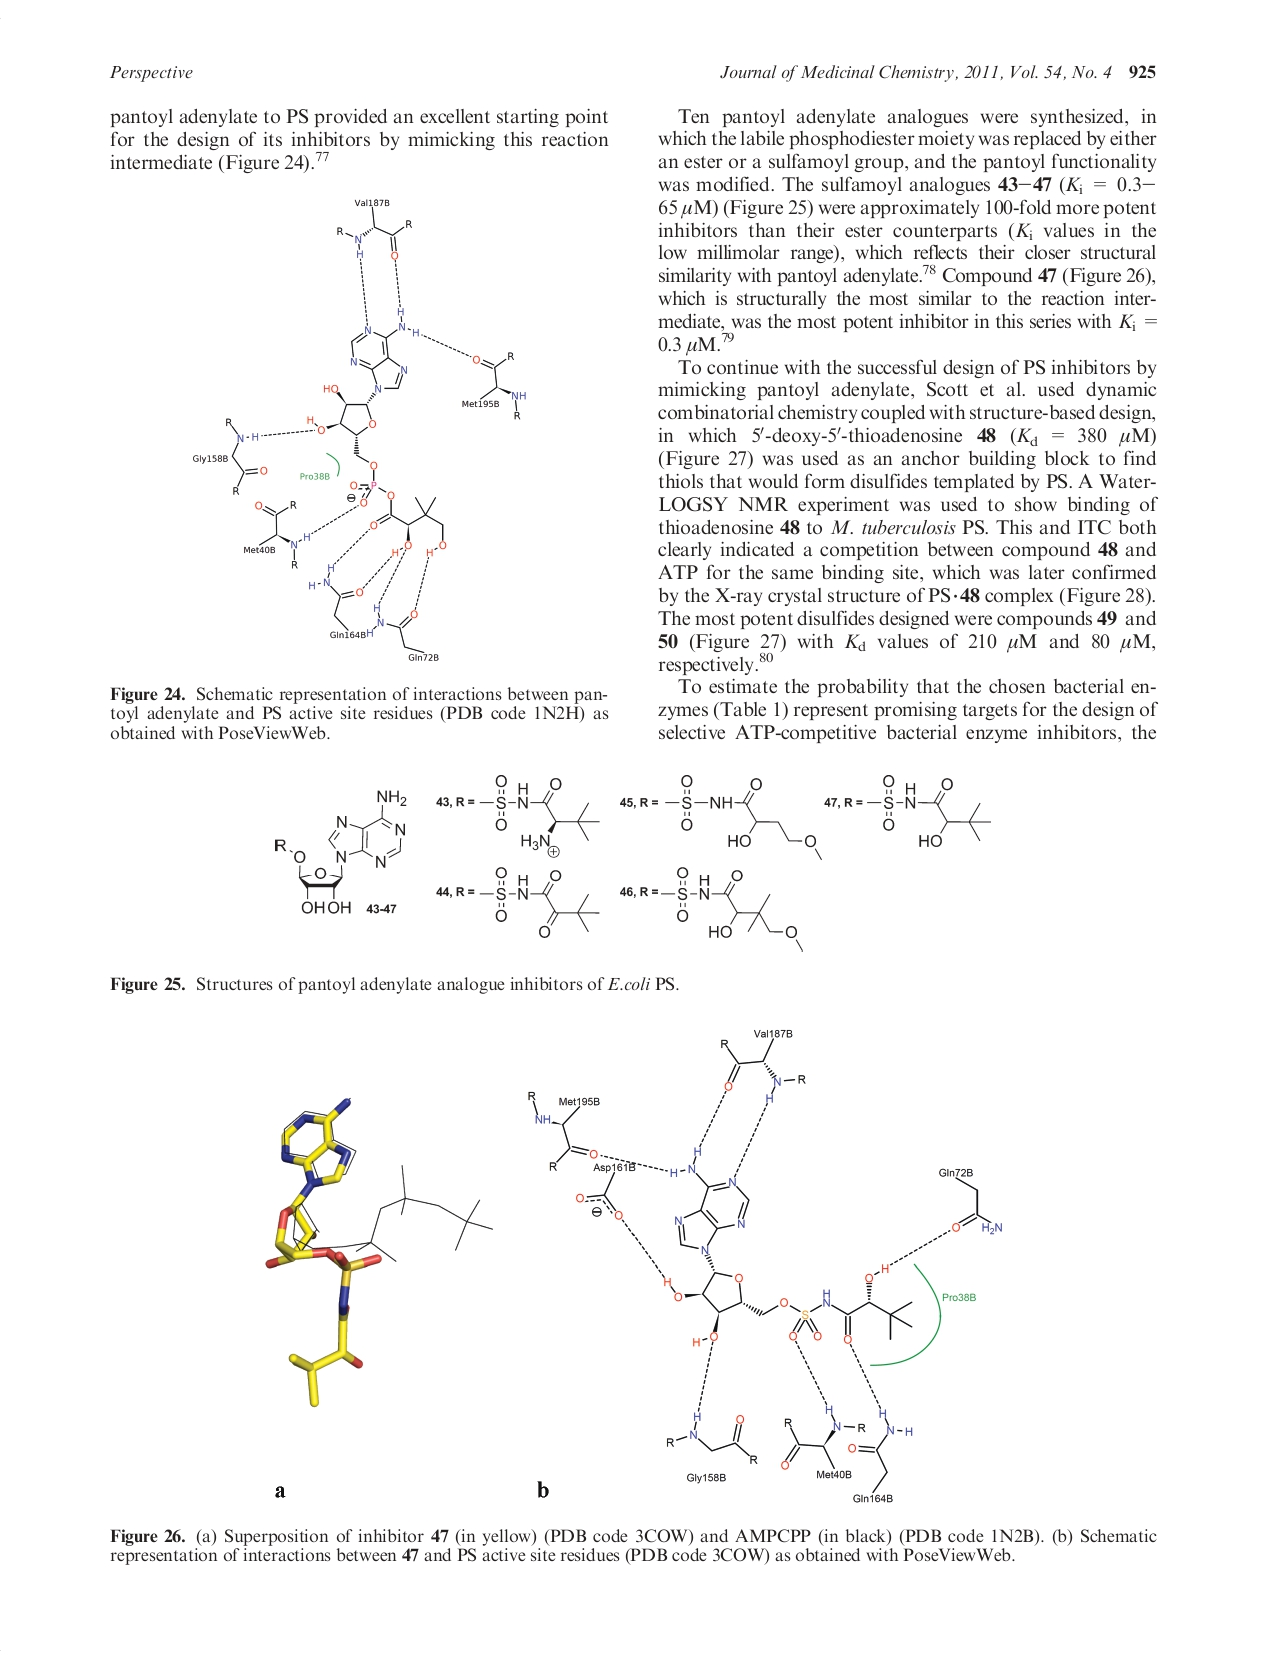exist_molecular: (661, 1144, 920, 1347), (305, 305, 451, 559), (271, 787, 410, 916), (661, 770, 823, 863), (660, 864, 809, 954), (477, 771, 602, 859), (864, 771, 992, 852), (477, 864, 602, 944), (715, 1020, 809, 1106), (781, 1400, 864, 1483), (190, 414, 271, 496), (848, 1404, 914, 1504), (525, 1091, 600, 1173), (332, 190, 414, 265), (664, 1408, 761, 1470), (459, 346, 531, 423), (935, 1160, 1005, 1237), (241, 497, 313, 569), (306, 557, 368, 640), (364, 601, 442, 662), (573, 1160, 637, 1220)
